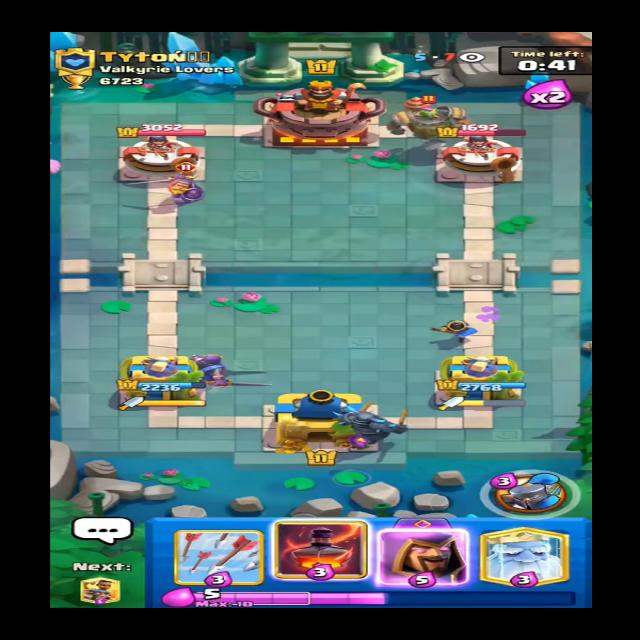evo-knight: (152, 160, 223, 203)
goblin-machine: (384, 93, 475, 142)
